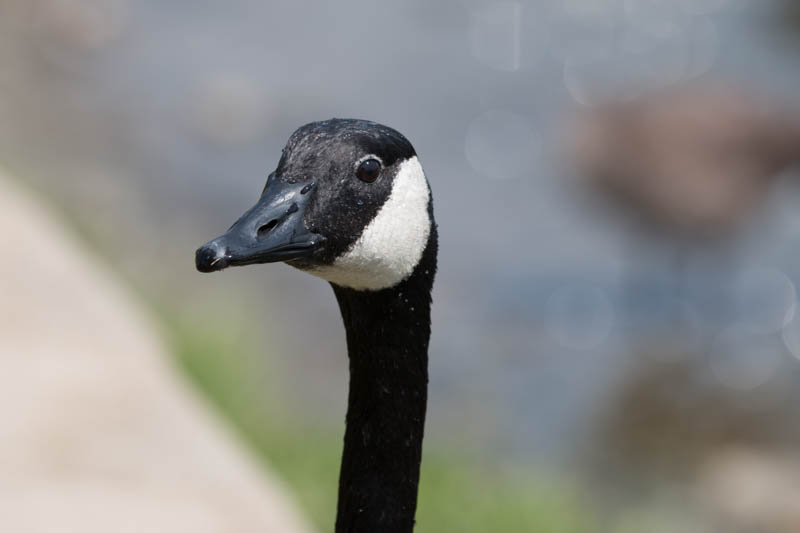goose-head: (194, 117, 438, 294)
